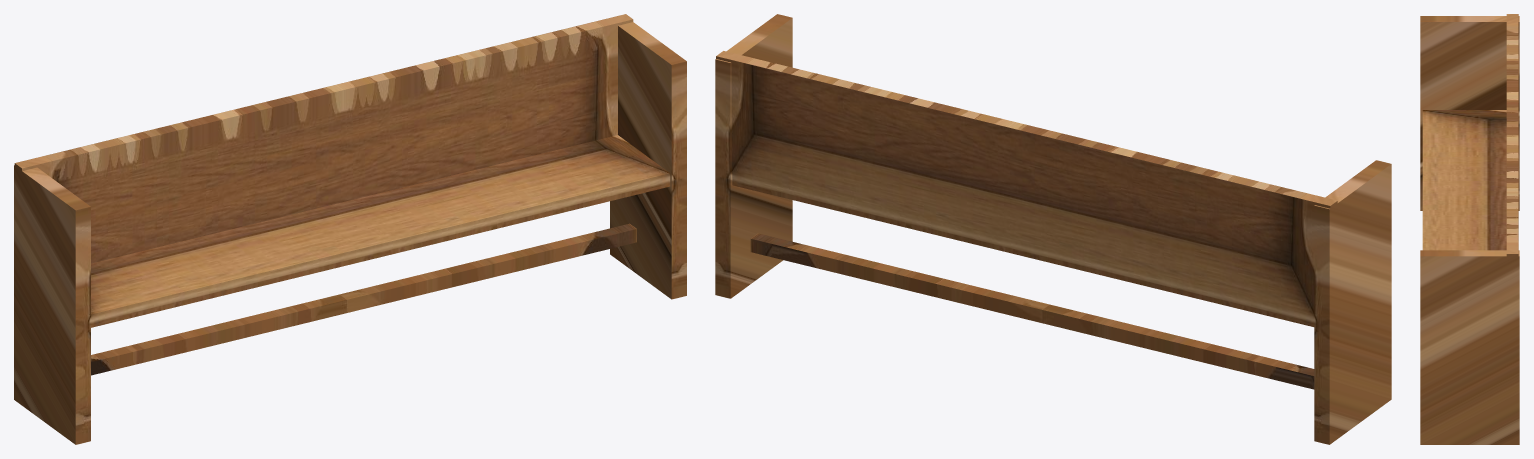
The model's file is v3-chapel-pew.glb.
3 views of the same model, side by side, from view 1: azimuth 30°, elevation 25°; view 2: azimuth 150°, elevation 25°; view 3: azimuth 270°, elevation 25° (orthographic). The views are drawn at different scales.
Parts seen in each view (by area): view 1: v3-chapel-pew; view 2: v3-chapel-pew; view 3: v3-chapel-pew.
Part boxes in pixels (box(x1,y1,x2,y2)): v3-chapel-pew: box(14, 14, 686, 444); v3-chapel-pew: box(715, 14, 1391, 444); v3-chapel-pew: box(1420, 14, 1519, 444).
Bounding box in the file's own units: 2.4 × 0.89 × 0.42.
Materials: 1 (1 with a texture image).
